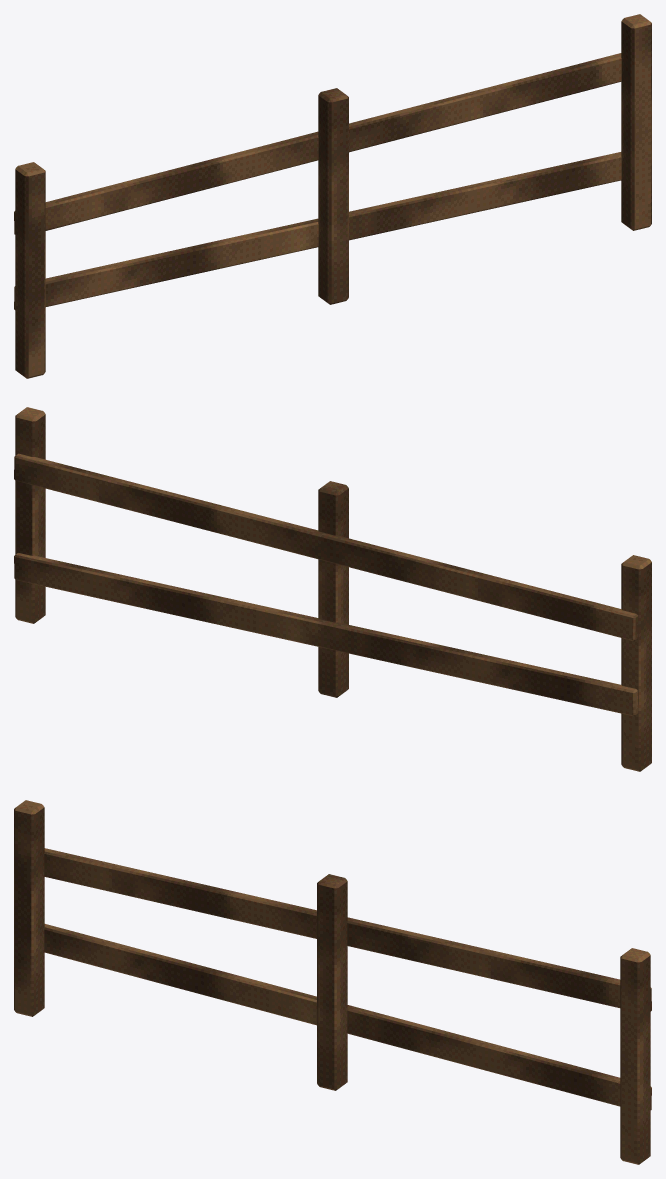
The model's file is prop_fence_wood.glb.
3 views of the same model, one above another, from view 1: azimuth 30°, elevation 25°; view 2: azimuth 150°, elevation 25°; view 3: azimuth 330°, elevation 25° (orthographic).
Visible parts, largest first — view 1: prop_fence_wood_mesh; view 2: prop_fence_wood_mesh; view 3: prop_fence_wood_mesh.
Part boxes in pixels (x1=…): prop_fence_wood_mesh: x1=14, y1=14, x2=651, y2=378; prop_fence_wood_mesh: x1=14, y1=407, x2=651, y2=771; prop_fence_wood_mesh: x1=14, y1=800, x2=651, y2=1164.
Size of what is drawn, in the model's own units: 4.14 by 1.3 by 0.18.
1 material, 1 textured.
